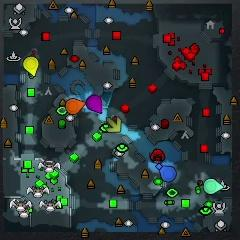p1: (158, 165, 177, 183)
p2: (204, 178, 223, 194)
p3: (87, 95, 103, 114)
p4: (23, 57, 38, 76)
p5: (65, 99, 85, 114)
x2: (106, 117, 121, 133)
